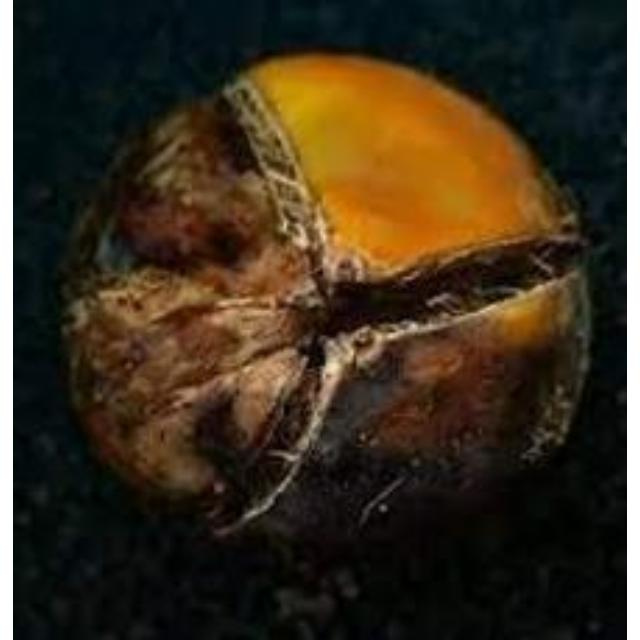damaged: (58, 50, 592, 545)
